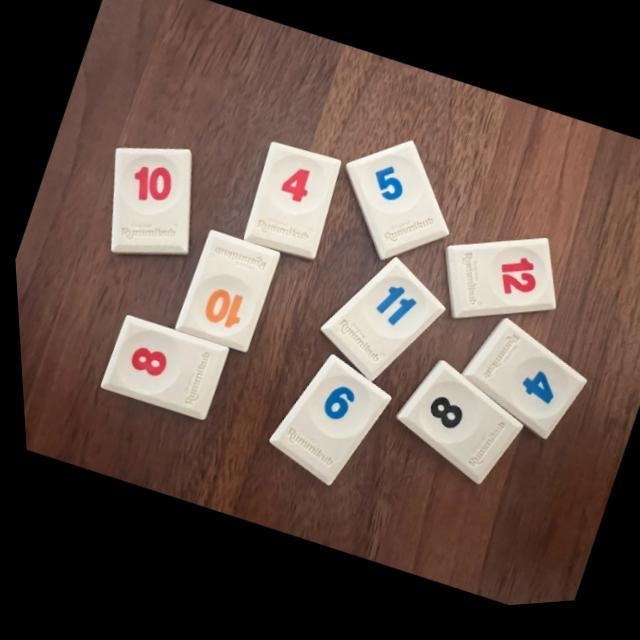black_8: (391, 367, 516, 491)
blue_11: (316, 263, 440, 386)
blue_4: (458, 326, 580, 447)
blue_5: (343, 148, 444, 265)
blue_6: (263, 360, 385, 489)
orange_10: (170, 233, 276, 355)
red_10: (108, 149, 189, 256)
red_12: (441, 247, 550, 324)
red_4: (239, 146, 338, 263)
red_8: (96, 317, 223, 422)
